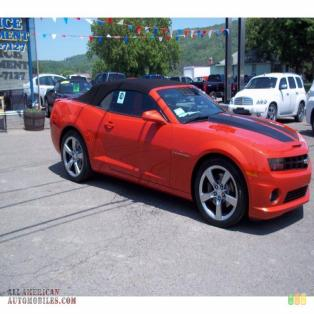Auto: (48, 73, 313, 231)
